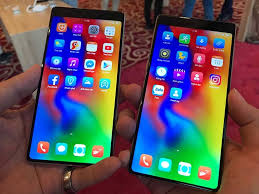bphone: (130, 10, 231, 191), (25, 3, 116, 171)
